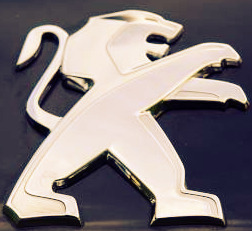Peugeot: (4, 4, 247, 226)
